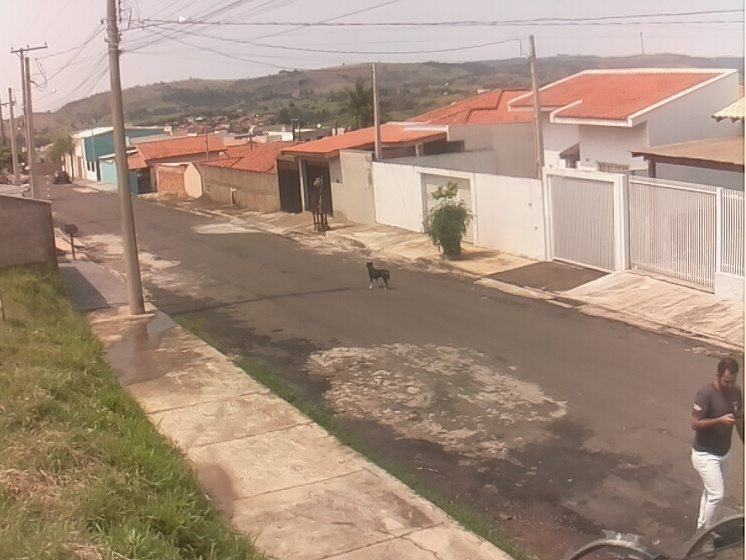person: (688, 358, 746, 540)
